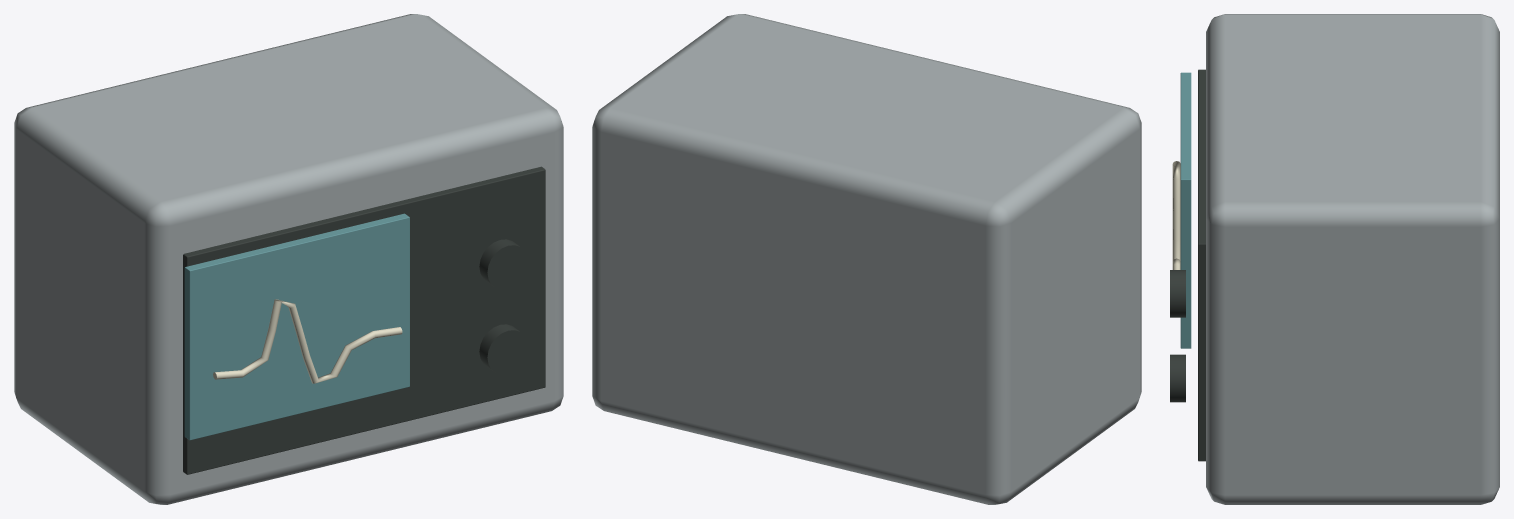
The model's file is research-and-crafting-progression-signal-oscilloscope-39a102c3__2874.glb.
3 views of the same model, side by side, from view 1: azimuth 30°, elevation 25°; view 2: azimuth 150°, elevation 25°; view 3: azimuth 270°, elevation 25° (orthographic).
Visible parts, largest first — view 1: signal-oscilloscope; view 2: signal-oscilloscope; view 3: signal-oscilloscope.
Part boxes in pixels (x1,y1,x2,y2): signal-oscilloscope: [14, 14, 563, 504]; signal-oscilloscope: [592, 14, 1141, 504]; signal-oscilloscope: [1170, 14, 1499, 504].
Bounding box in the file's own units: 0.36 × 0.25 × 0.247.
